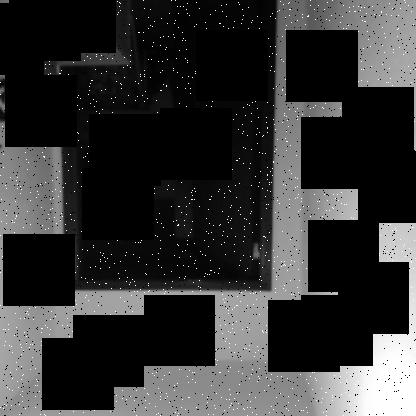Porte: (56, 1, 282, 293)
